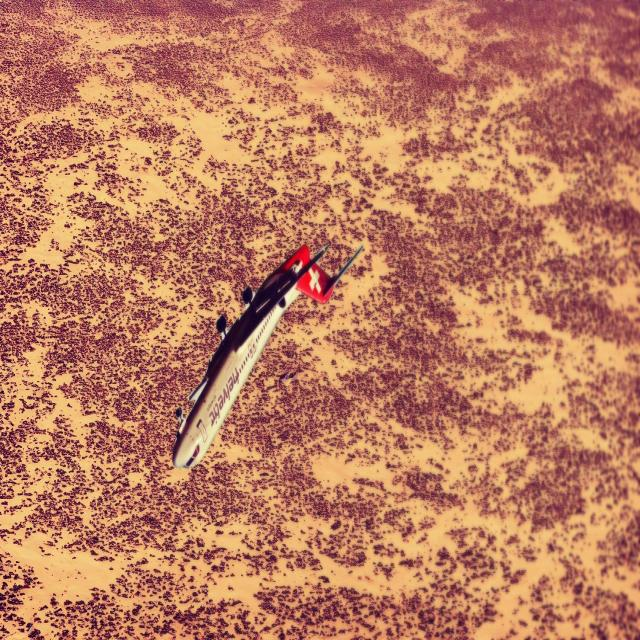airplane: (171, 240, 364, 470)
